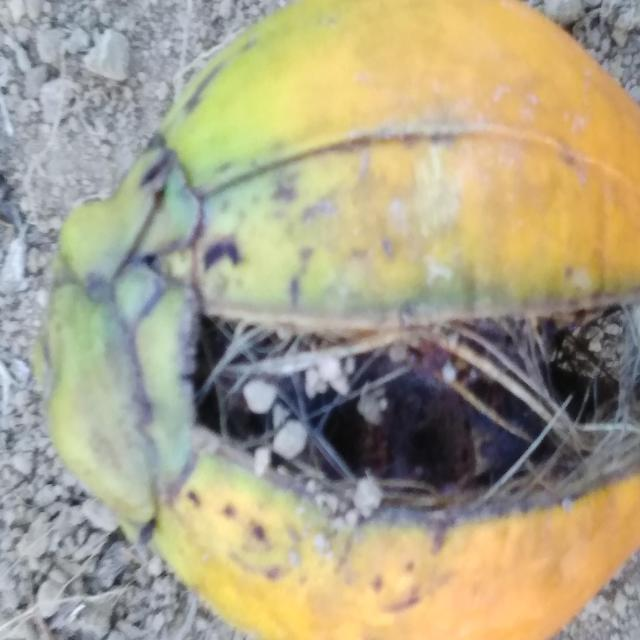damaged: (31, 0, 640, 640)
